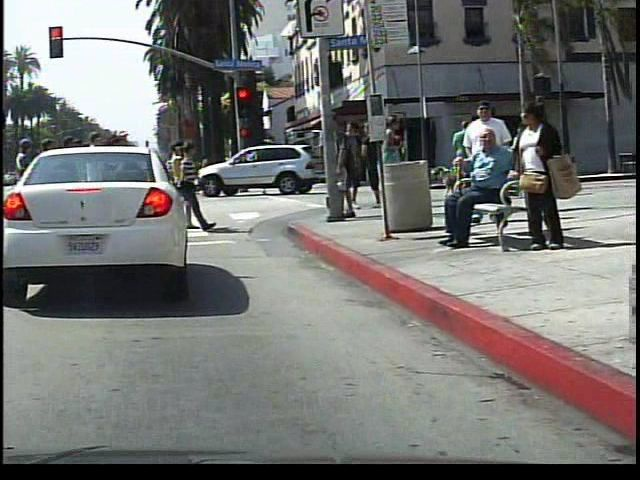person: (428, 129, 521, 260), (505, 100, 572, 266), (363, 111, 410, 212), (251, 146, 277, 197)
